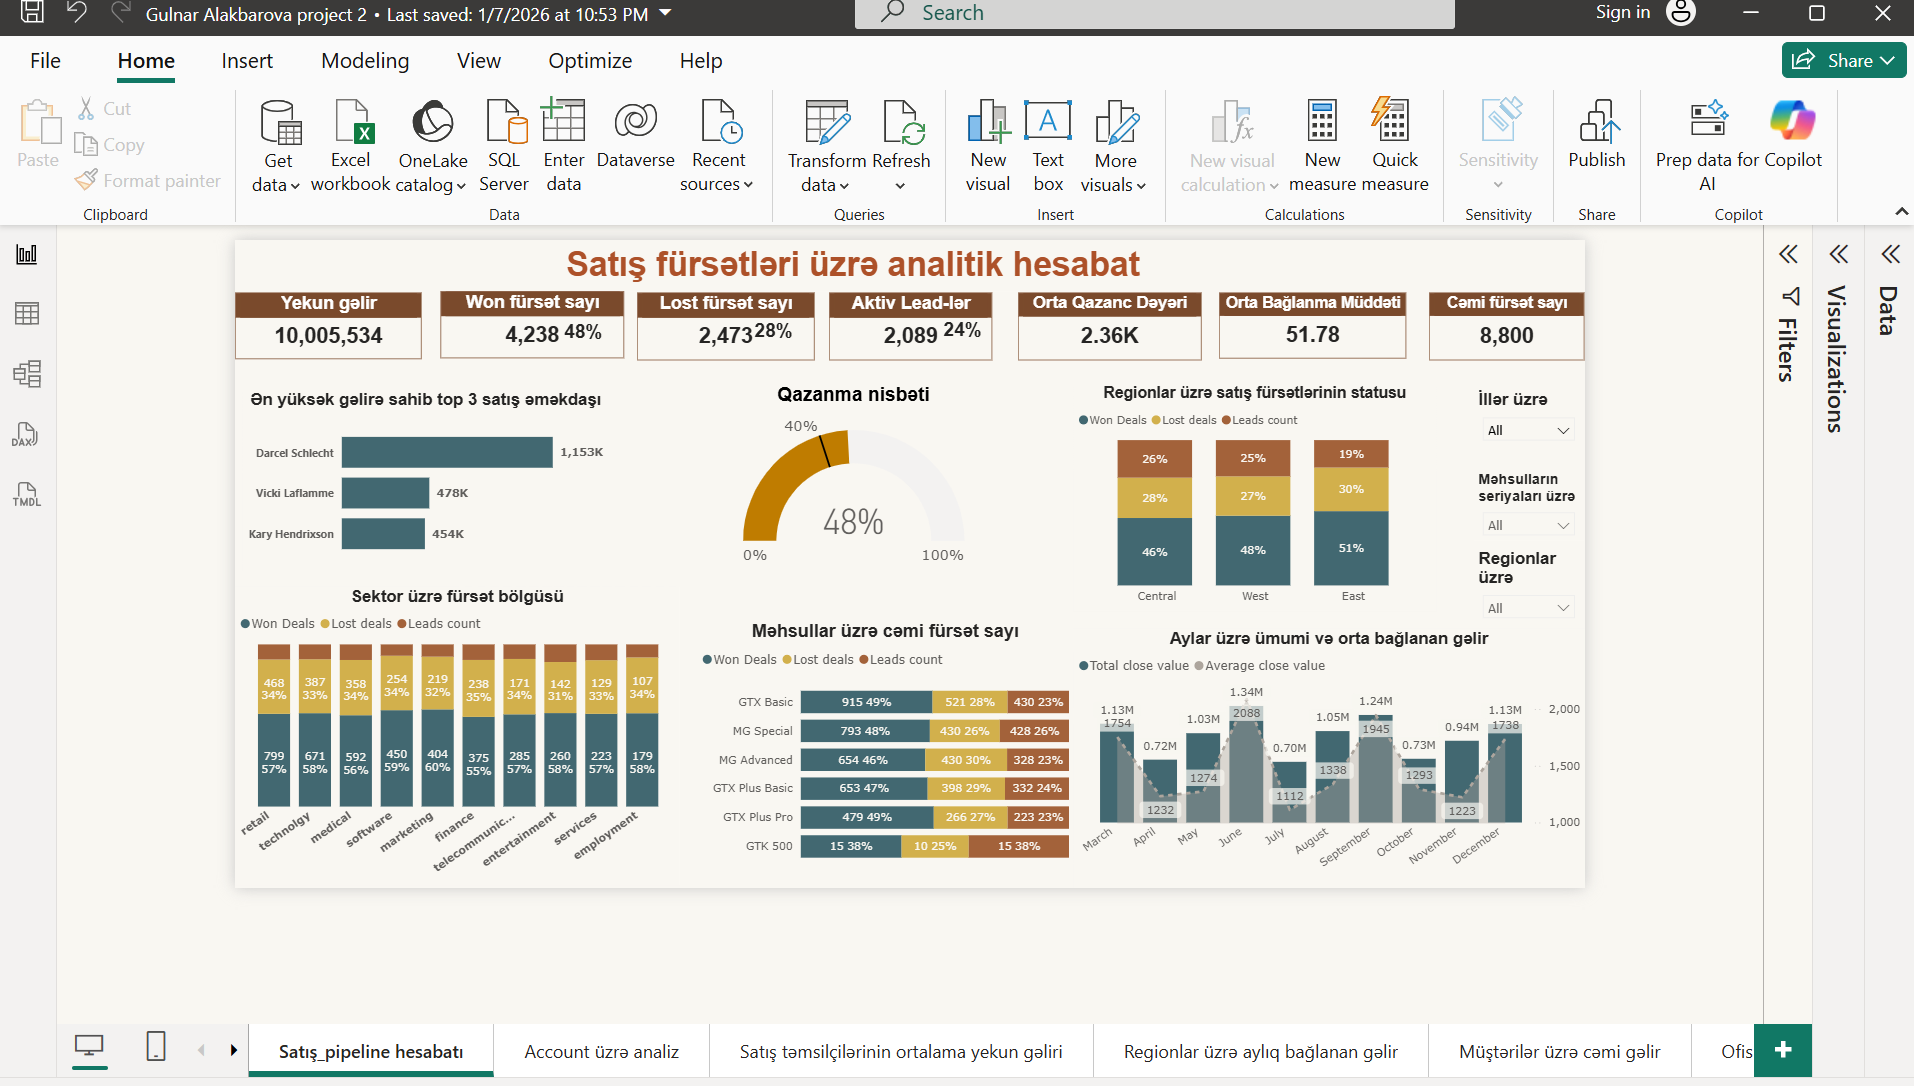

What the dashboard file says about the page in this screenshot:
{"tool":"powerbi","page":{"name":"Satış_pipeline hesabatı","canvas":[1500,720],"ordinal":0},"visuals":[{"type":"textbox","box":[356.5,0,659.9,57.6],"z":0},{"type":"card","title":"Yekun gəlir","fields":{"Values":["Sales pipeline measure table.Total close value"]},"box":[0,57.5,207.4,74.2],"z":1000},{"type":"card","title":"Won fürsət sayı","fields":{"Values":["Sales pipeline measure table.Won Deals"]},"box":[228.9,56.8,204.1,74.5],"z":2000},{"type":"card","title":"Lost fürsət sayı","fields":{"Values":["Sales pipeline measure table.Lost deals"]},"box":[447.3,57.6,197.1,75.3],"z":3000},{"type":"card","title":"Aktiv Lead-lər","fields":{"Values":["Sales pipeline measure table.Leads count"]},"box":[659.9,57.6,181.6,75.3],"z":4000},{"type":"card","fields":{"Values":["Sales pipeline measure table.% Won"]},"box":[356.7,74.5,60.3,53.2],"z":5000},{"type":"card","fields":{"Values":["Sales pipeline measure table.%Lost"]},"box":[569.1,77.5,59.8,44.3],"z":6000},{"type":"card","fields":{"Values":["Sales pipeline measure table.% Leads count"]},"box":[775.1,75.3,66.4,48.7],"z":7000},{"type":"card","title":"Orta Qazanc Dəyəri","fields":{"Values":["Sales pipeline measure table.Average Won deals"]},"box":[870.3,57.6,203.7,75.3],"z":8000},{"type":"card","title":"Orta Bağlanma Müddəti","fields":{"Values":["Sales pipeline measure table.Average Close days"]},"box":[1094,57.6,208.2,73.1],"z":9000},{"type":"clusteredBarChart","title":"Ən yüksək gəlirə sahib top 3 satış əməkdaşı","fields":{"Category":["sales_teams.sales_agent"],"Y":["Sales pipeline measure table.Total close value"]},"box":[8.9,166.1,407.5,201.5],"z":10000},{"type":"hundredPercentStackedBarChart","title":"Məhsullar üzrə cəmi fürsət sayı","fields":{"Category":["products.product"],"Y":["Sales pipeline measure table.Won Deals","Sales pipeline measure table.Lost deals","Sales pipeline measure table.Leads count"]},"box":[513.8,423,418.6,281.3],"z":11000},{"type":"lineStackedColumnComboChart","title":"Aylar üzrə ümumi və orta bağlanan gəlir","fields":{"Category":["Calendar table.Month"],"Y":["Sales pipeline measure table.Total close value"],"Y2":["Sales pipeline measure table.Average close value"]},"box":[931.6,431.2,567.8,289.2],"z":12000},{"type":"gauge","title":"Qazanma nisbəti","fields":{"Y":["Sales pipeline measure table.% Won"],"TargetValue":["Sales pipeline measure table.Target"]},"box":[522.6,159.5,327.8,208.2],"z":13000},{"type":"slicer","title":"İllər üzrə","fields":{"Values":["Calendar table.Year"]},"box":[1377.5,166.1,121.8,75.3],"z":16000},{"type":"slicer","title":"Məhsulların seriyaları üzrə","fields":{"Values":["products.series"]},"box":[1377.5,256.9,121.8,77.5],"z":17000},{"type":"slicer","title":"Regionlar üzrə","fields":{"Values":["sales_teams.regional_office"]},"box":[1377.5,343.3,121.8,79.7],"z":18000},{"type":"hundredPercentStackedColumnChart","title":"Regionlar üzrə satış fürsətlərinin statusu","fields":{"Category":["sales_teams.regional_office"],"Y":["Sales pipeline measure table.Won Deals","Sales pipeline measure table.Lost deals","Sales pipeline measure table.Leads count"]},"box":[932.3,159.5,403.1,252.5],"z":19000},{"type":"hundredPercentStackedColumnChart","title":"Sektor üzrə fürsət bölgüsü","fields":{"Category":["accounts.sector"],"Y":["Sales pipeline measure table.Won Deals","Sales pipeline measure table.Lost deals","Sales pipeline measure table.Leads count"]},"box":[0,385.3,493.9,332.2],"z":20000},{"type":"card","title":"Cəmi fürsət sayı","fields":{"Values":["Sales pipeline measure table.Total opportunities"]},"box":[1326.5,57.6,172.7,75.3],"z":20001}]}

Visuals, with their boxes on the page's 1500x720 design canvas (x1, y1, x2, y2). These are canvas units, not pixel positions in the 1914x1086 screenshot, which may show the page scaled, cropped or inside an application window:
textbox: [x1=356, y1=0, x2=1016, y2=58]
"Yekun gəlir" card: [x1=0, y1=58, x2=207, y2=132]
"Won fürsət sayı" card: [x1=229, y1=57, x2=433, y2=131]
"Lost fürsət sayı" card: [x1=447, y1=58, x2=644, y2=133]
"Aktiv Lead-lər" card: [x1=660, y1=58, x2=842, y2=133]
card - Sales pipeline measure table.% Won: [x1=357, y1=74, x2=417, y2=128]
card - Sales pipeline measure table.%Lost: [x1=569, y1=78, x2=629, y2=122]
card - Sales pipeline measure table.% Leads count: [x1=775, y1=75, x2=842, y2=124]
"Orta Qazanc Dəyəri" card: [x1=870, y1=58, x2=1074, y2=133]
"Orta Bağlanma Müddəti" card: [x1=1094, y1=58, x2=1302, y2=131]
"Ən yüksək gəlirə sahib top 3 satış əməkdaşı" clusteredBarChart: [x1=9, y1=166, x2=416, y2=368]
"Məhsullar üzrə cəmi fürsət sayı" hundredPercentStackedBarChart: [x1=514, y1=423, x2=932, y2=704]
"Aylar üzrə ümumi və orta bağlanan gəlir" lineStackedColumnComboChart: [x1=932, y1=431, x2=1499, y2=720]
"Qazanma nisbəti" gauge: [x1=523, y1=160, x2=850, y2=368]
"İllər üzrə" slicer: [x1=1378, y1=166, x2=1499, y2=241]
"Məhsulların seriyaları üzrə" slicer: [x1=1378, y1=257, x2=1499, y2=334]
"Regionlar üzrə" slicer: [x1=1378, y1=343, x2=1499, y2=423]
"Regionlar üzrə satış fürsətlərinin statusu" hundredPercentStackedColumnChart: [x1=932, y1=160, x2=1335, y2=412]
"Sektor üzrə fürsət bölgüsü" hundredPercentStackedColumnChart: [x1=0, y1=385, x2=494, y2=718]
"Cəmi fürsət sayı" card: [x1=1326, y1=58, x2=1499, y2=133]
